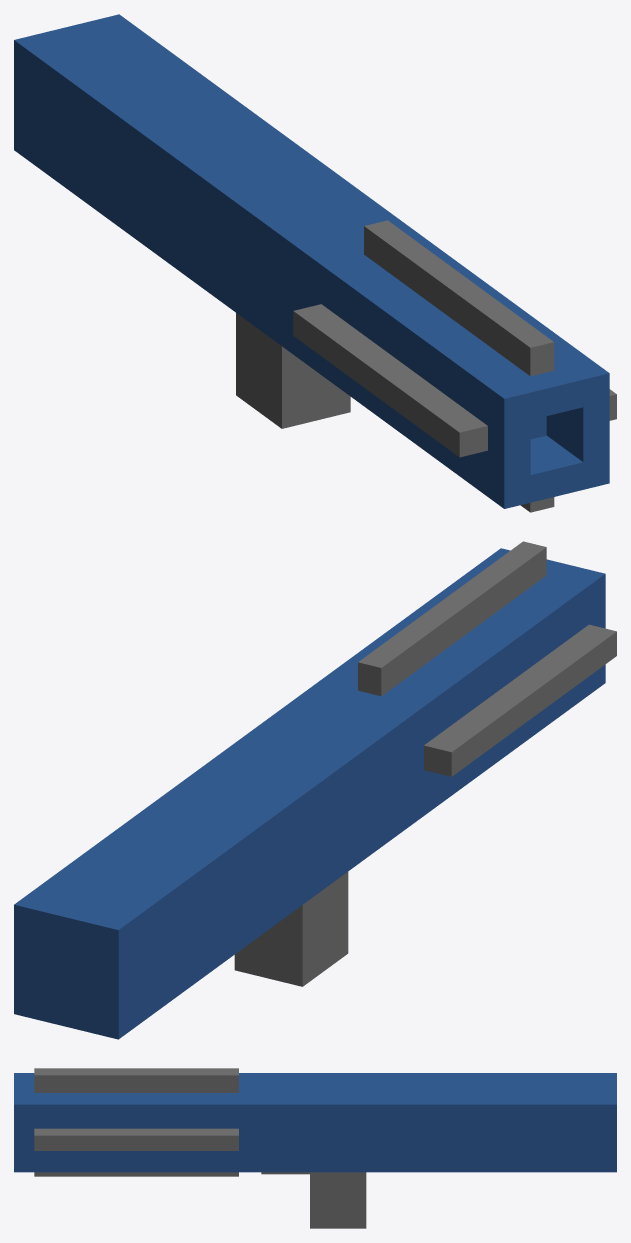
File: blue_rocket_launcher.fbx
3 views of the same model, one above another, from view 1: azimuth 30°, elevation 25°; view 2: azimuth 150°, elevation 25°; view 3: azimuth 270°, elevation 25° (orthographic). The views are drawn at different scales.
Parts seen in each view (by area): view 1: Cube, Cube.007, Cube.003, Cube.002; view 2: Cube, Cube.007, Cube.003, Cube.002; view 3: Cube, Cube.003, Cube.006, Cube.002, Cube.004.
Boxes of the visible parts, x1,y1,x2,y2 form: Cube: (14,14,609,508); Cube.007: (293,304,487,457); Cube.003: (364,220,554,376); Cube.002: (236,313,350,428); Cube: (14,548,605,1039); Cube.007: (424,624,616,776); Cube.003: (358,541,546,696); Cube.002: (234,872,348,986); Cube: (14,1073,616,1172); Cube.003: (34,1068,238,1092); Cube.006: (34,1128,238,1150); Cube.002: (310,1172,366,1228); Cube.004: (34,1172,238,1176).
Bounding box in the file's own units: 68.93 × 100 × 372.
